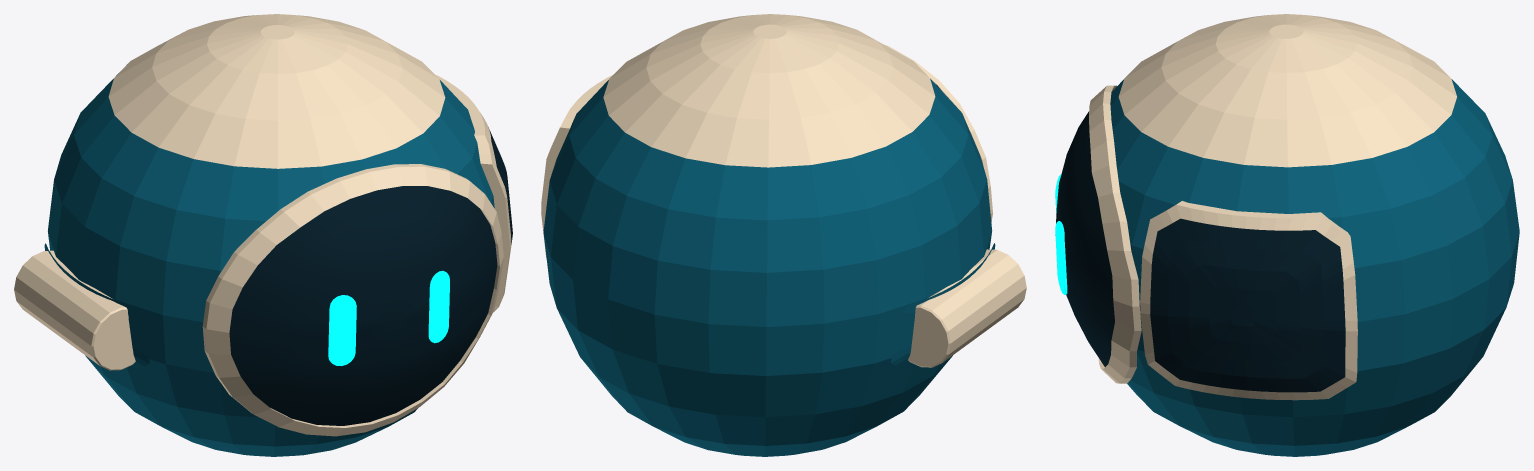
Rendered from copilot_architect_v01.glb.
3 renders of one model, left to right at view 1: azimuth 30°, elevation 25°; view 2: azimuth 150°, elevation 25°; view 3: azimuth 270°, elevation 25°, orthographic.
Visible parts, largest first — view 1: pavilion_body, pavilion_eyes; view 2: pavilion_body; view 3: pavilion_body, pavilion_eyes.
Part boxes in pixels (x1,y1,x2,y2): pavilion_body: (14,14,512,456); pavilion_eyes: (328,270,449,365); pavilion_body: (541,14,1026,456); pavilion_body: (1055,14,1519,456); pavilion_eyes: (1055,174,1067,294).
Bounding box in the file's own units: 3.01 × 2.64 × 2.84.
Materials: 2 (2 with a texture image).
